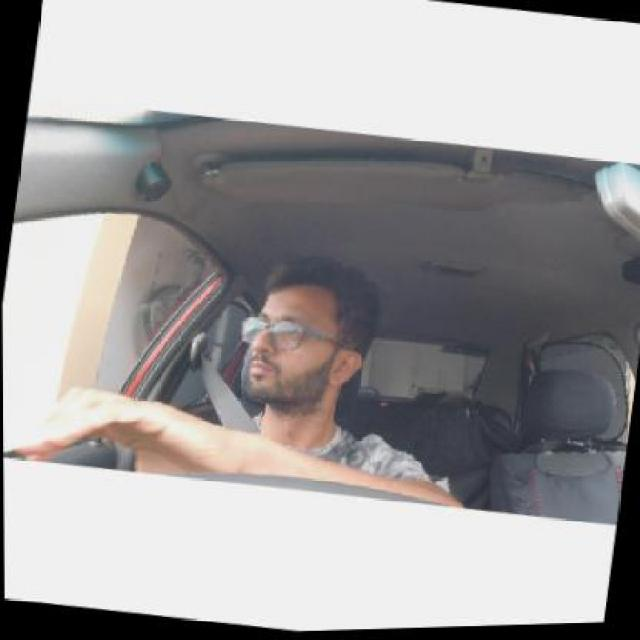person: (239, 264, 373, 408)
